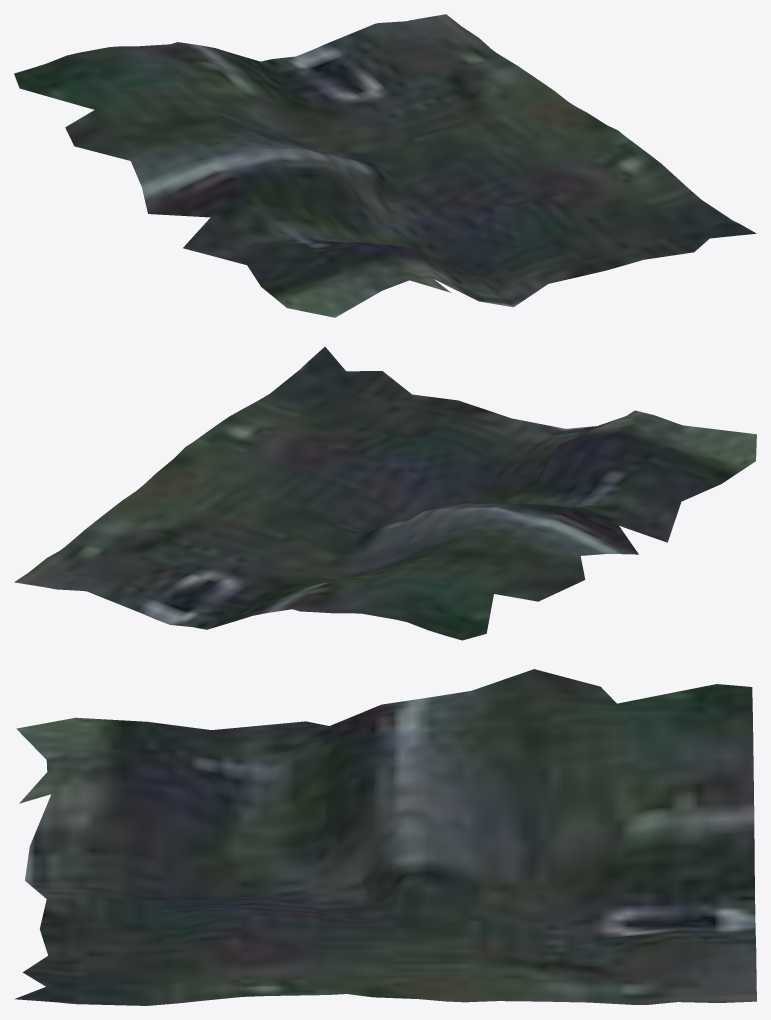
The model's file is Tile_003_003_L14_444.glb.
The picture shows the model from 3 angles, top to bottom: view 1: azimuth 30°, elevation 25°; view 2: azimuth 150°, elevation 25°; view 3: azimuth 270°, elevation 25°; orthographic projection. The views are drawn at different scales.
Visible parts, largest first — view 1: rtc; view 2: rtc; view 3: rtc.
Part boxes in pixels (left/top/right/bottom): rtc: left=14, top=14, right=756, bottom=317; rtc: left=14, top=347, right=756, bottom=640; rtc: left=14, top=669, right=756, bottom=1005.
Size of the model in its own units: 20.46 by 3.25 by 23.23.
Materials: 1 (1 with a texture image).
